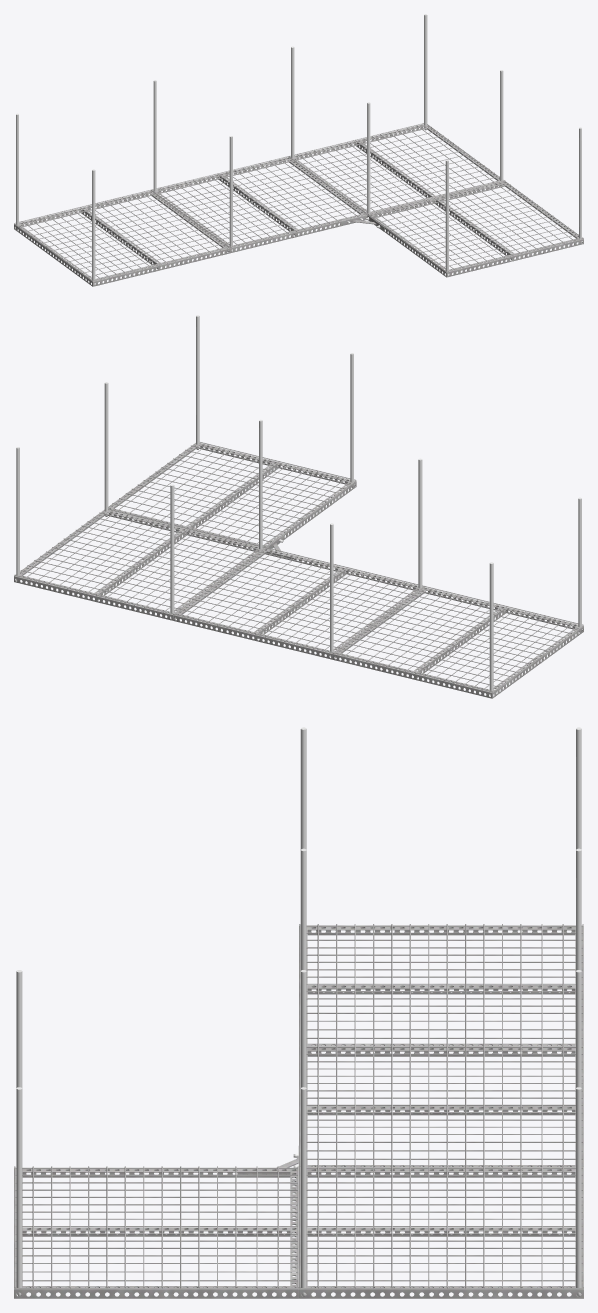
The model's file is PQL24.glb.
The picture shows the model from 3 angles, top to bottom: view 1: azimuth 30°, elevation 25°; view 2: azimuth 150°, elevation 25°; view 3: azimuth 270°, elevation 25°; orthographic projection. The views are drawn at different scales.
Visible parts, largest first — view 1: Grill004, Rods004; view 2: Grill004, Rods004; view 3: Grill004, Rods004.
Part boxes in pixels (x1,y1,x2,y2): Grill004: (14,123,583,286); Rods004: (16,14,581,285); Grill004: (14,442,583,698); Rods004: (16,315,581,696); Grill004: (14,924,583,1298); Rods004: (16,727,581,1296).
Bounding box in the file's own units: 93.35 × 24.97 × 61.88.
Materials: 2 (2 with a texture image).
